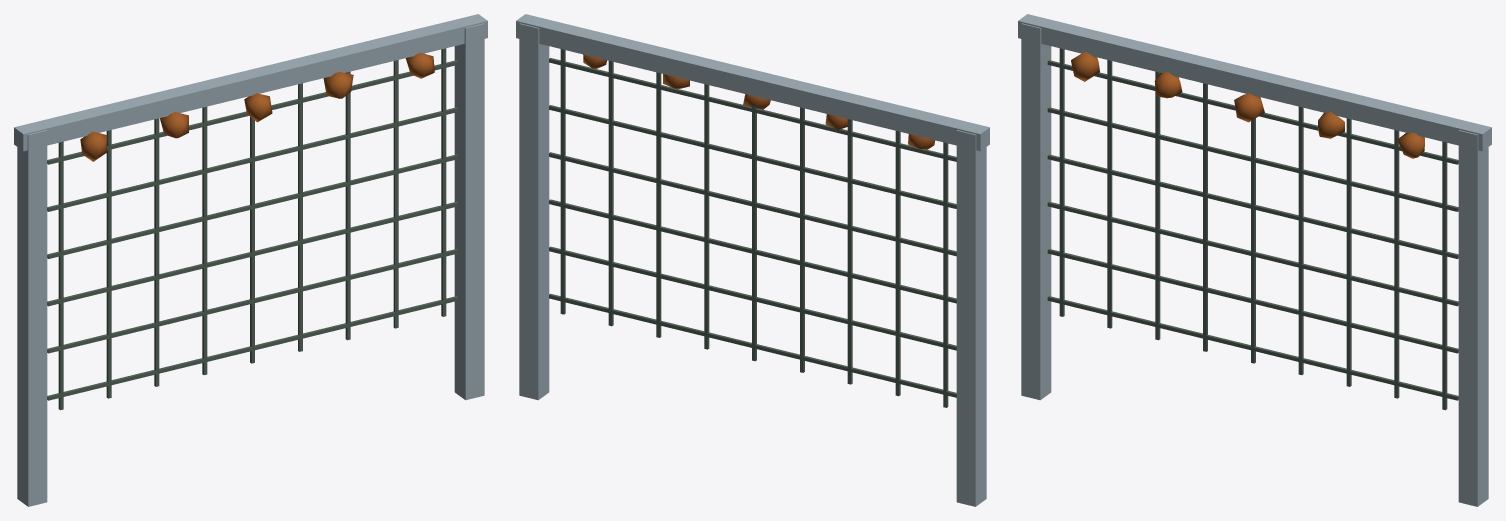
Rendered from net_rack.glb.
The picture shows the model from 3 angles, left to right: view 1: azimuth 30°, elevation 25°; view 2: azimuth 150°, elevation 25°; view 3: azimuth 330°, elevation 25°; orthographic projection.
Parts seen in each view (by area): view 1: net_rack; view 2: net_rack; view 3: net_rack.
Part boxes in pixels (x1,y1,x2,y2): net_rack: [14, 14, 487, 506]; net_rack: [516, 14, 989, 506]; net_rack: [1018, 14, 1491, 506].
Size of the model in its own units: 3.4 by 2.61 by 0.2453.
